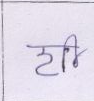i_matra: (68, 34, 81, 67)
